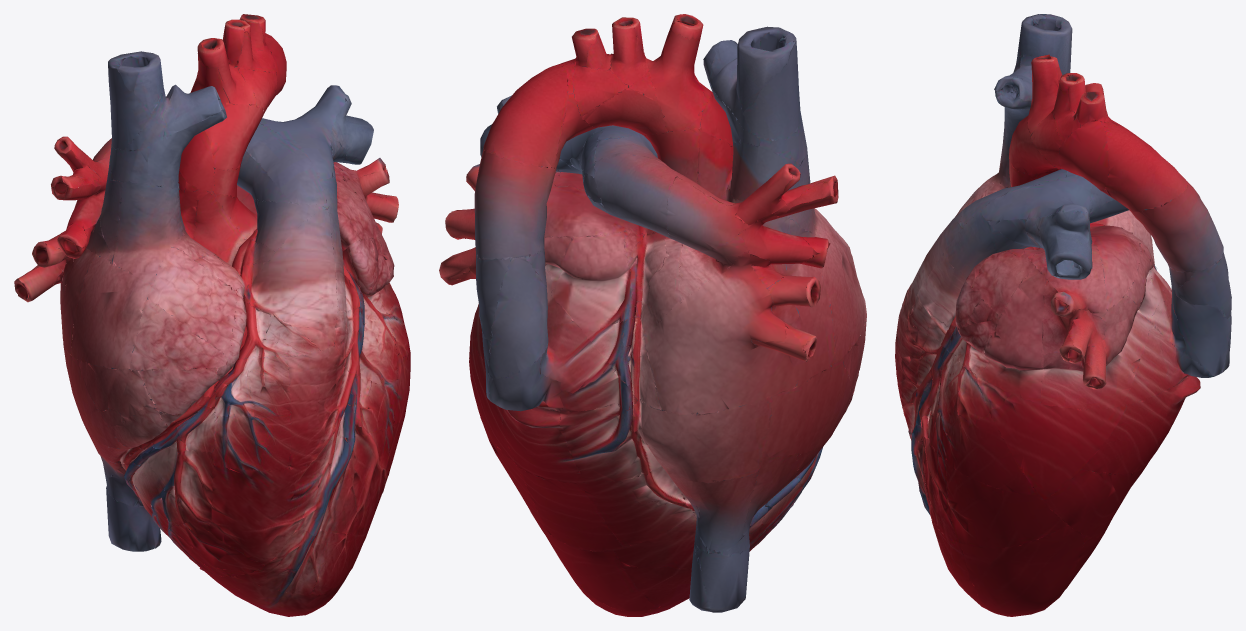
Rendered from PATIENT_Heart.glb.
The picture shows the model from 3 angles, left to right: view 1: azimuth 30°, elevation 25°; view 2: azimuth 150°, elevation 25°; view 3: azimuth 270°, elevation 25°; orthographic projection. The views are drawn at different scales.
Parts seen in each view (by area): view 1: PATIENT_Heart; view 2: PATIENT_Heart; view 3: PATIENT_Heart.
Part boxes in pixels (x1,y1,x2,y2): PATIENT_Heart: [14, 14, 410, 616]; PATIENT_Heart: [439, 14, 866, 616]; PATIENT_Heart: [895, 14, 1231, 616].
Bounding box in the file's own units: 0.098 × 0.15 × 0.0867.
1 material, 1 textured.
